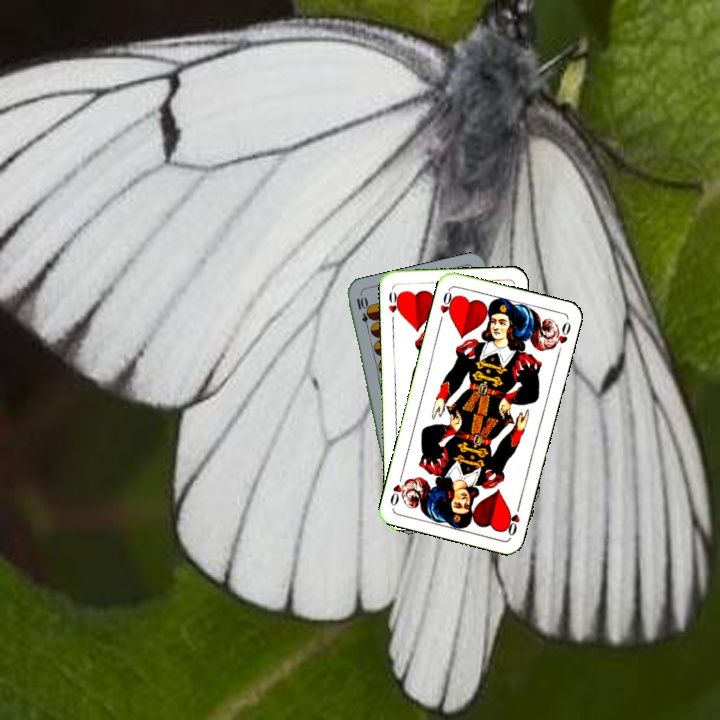E10: (352, 293, 373, 333)
HO: (435, 286, 458, 326), (502, 499, 523, 538), (384, 287, 403, 325)
